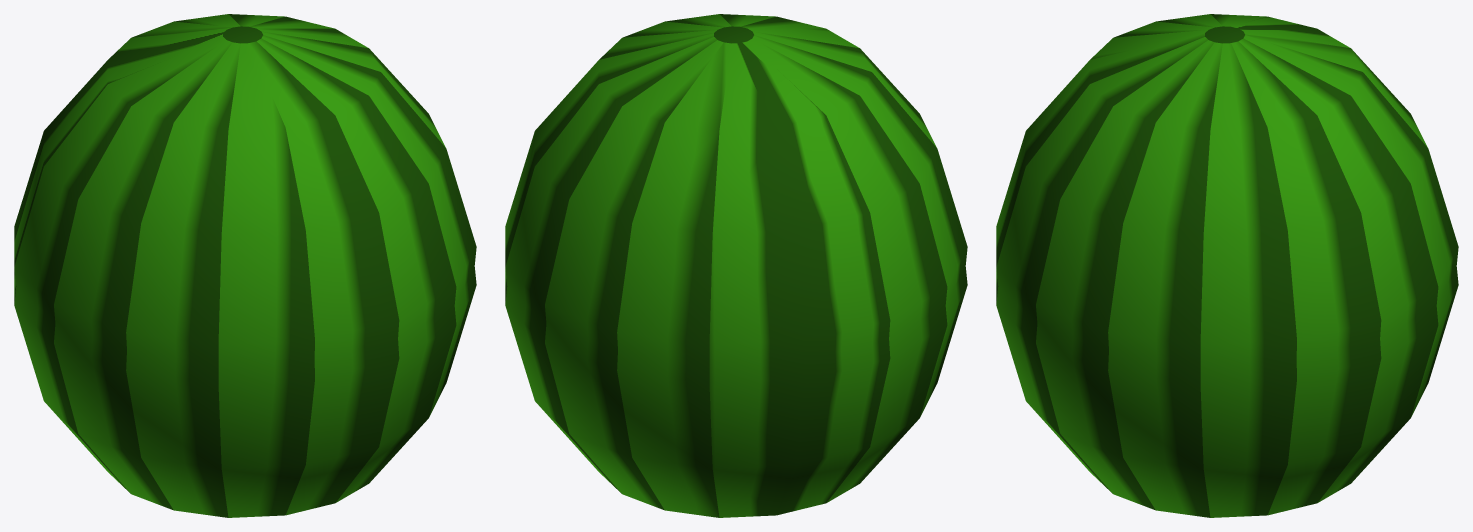
File: Watermelon.fbx
3 views of the same model, side by side, from view 1: azimuth 30°, elevation 25°; view 2: azimuth 150°, elevation 25°; view 3: azimuth 270°, elevation 25° (orthographic).
Parts seen in each view (by area): view 1: Object; view 2: Object; view 3: Object.
Part boxes in pixels (x1,y1,x2,y2): Object: (14,14,476,517); Object: (505,14,967,517); Object: (996,14,1458,517).
Size of the model in its own units: 24.91 by 27.32 by 24.77.
